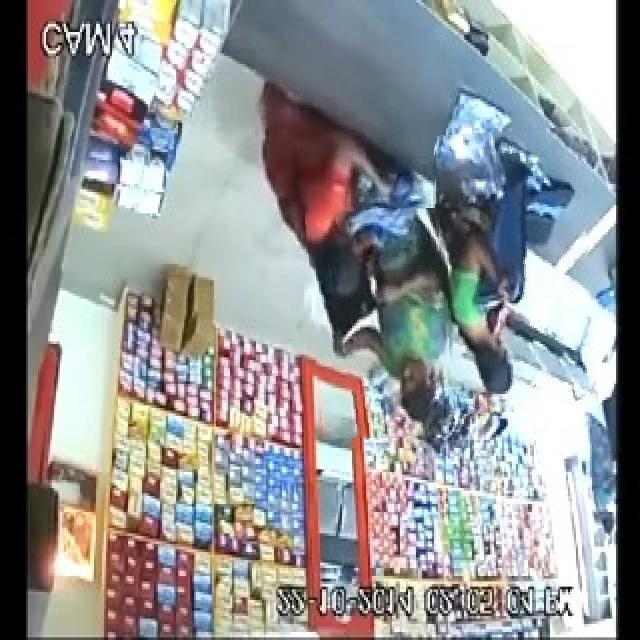Normal: (439, 128, 594, 412), (254, 72, 436, 309), (310, 206, 452, 438)
